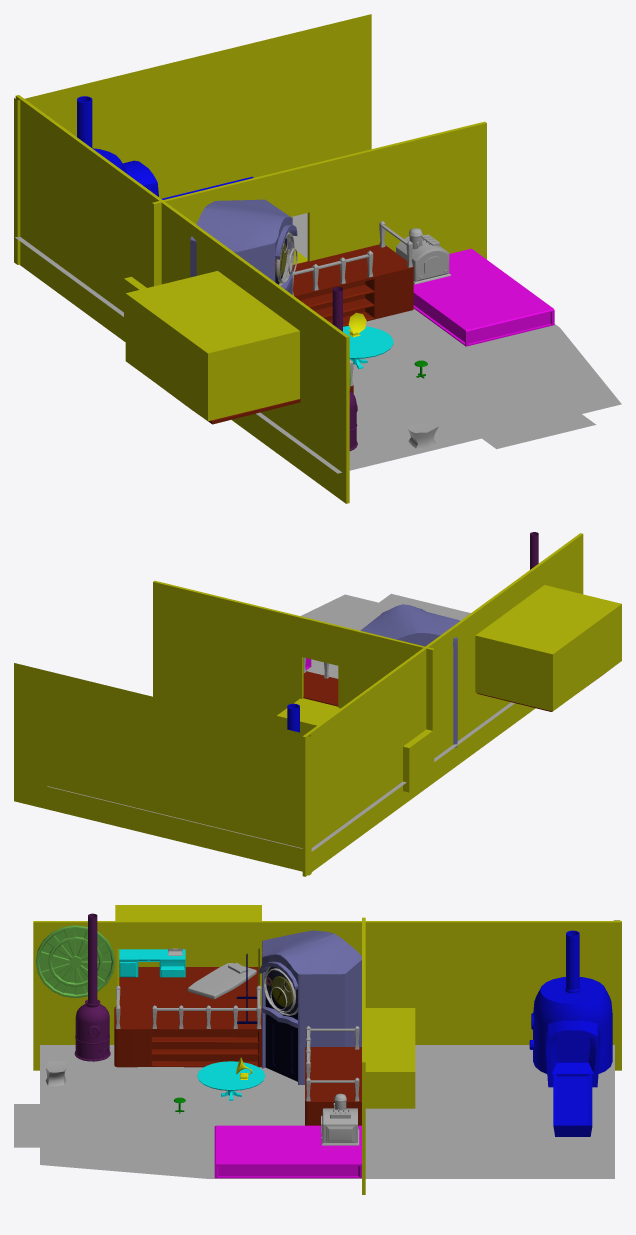
File: SteampunkLobbyReal.fbx
The picture shows the model from 3 angles, top to bottom: view 1: azimuth 30°, elevation 25°; view 2: azimuth 150°, elevation 25°; view 3: azimuth 270°, elevation 25°; orthographic projection. The views are drawn at different scales.
Visible parts, largest first — view 1: pCube10, pCube51, pPlane1, pCube11, RaisedPlatform, RightCabinetFloor, pCube9, pCube24, RoundTable, pCylinder62, WindowGlass, pCylinder73 (+1 smaller); view 2: pCube51, pCube10, pCube11, pPlane1, pCube9, RightCabinetFloor; view 3: pPlane1, pCube10, LeftCabinetFloor, pCube9, RaisedPlatform, pCube11, pCylinder72, RoundWindow, RightCabinetFloor, pCube83, pCylinder62, pCube84 (+10 smaller).
Part boxes in pixels (left/top/right/bottom): pCube10: left=15, top=95, right=349, bottom=503; pCube51: left=14, top=14, right=371, bottom=264; pPlane1: left=15, top=213, right=621, bottom=473; pCube11: left=124, top=121, right=486, bottom=332; RaisedPlatform: left=413, top=248, right=554, bottom=346; RightCabinetFloor: left=292, top=244, right=413, bottom=326; pCube9: left=190, top=199, right=297, bottom=294; pCube24: left=396, top=235, right=450, bottom=284; RoundTable: left=343, top=326, right=393, bottom=369; pCylinder62: left=332, top=286, right=357, bottom=450; WindowGlass: left=276, top=231, right=297, bottom=286; pCylinder73: left=77, top=96, right=92, bottom=147; pCube51: left=14, top=663, right=311, bottom=875; pCube10: left=302, top=533, right=621, bottom=876; pCube11: left=153, top=580, right=434, bottom=792; pPlane1: left=47, top=593, right=514, bottom=851; pCube9: left=360, top=604, right=459, bottom=747; RightCabinetFloor: left=303, top=671, right=338, bottom=706; pPlane1: left=14, top=1045, right=614, bottom=1178; pCube10: left=33, top=905, right=621, bottom=1070; LeftCabinetFloor: left=114, top=967, right=261, bottom=1067; pCube9: left=259, top=930, right=361, bottom=1084; RaisedPlatform: left=214, top=1125, right=361, bottom=1178; pCube11: left=362, top=917, right=415, bottom=1194; pCylinder72: left=533, top=977, right=612, bottom=1073; RoundWindow: left=36, top=925, right=114, bottom=997; RightCabinetFloor: left=305, top=1047, right=361, bottom=1125; pCube83: left=545, top=1020, right=600, bottom=1087; pCylinder62: left=74, top=913, right=110, bottom=1061; pCube84: left=553, top=1074, right=592, bottom=1136.
Size of the model in its own units: 1349 by 536 by 1799.
